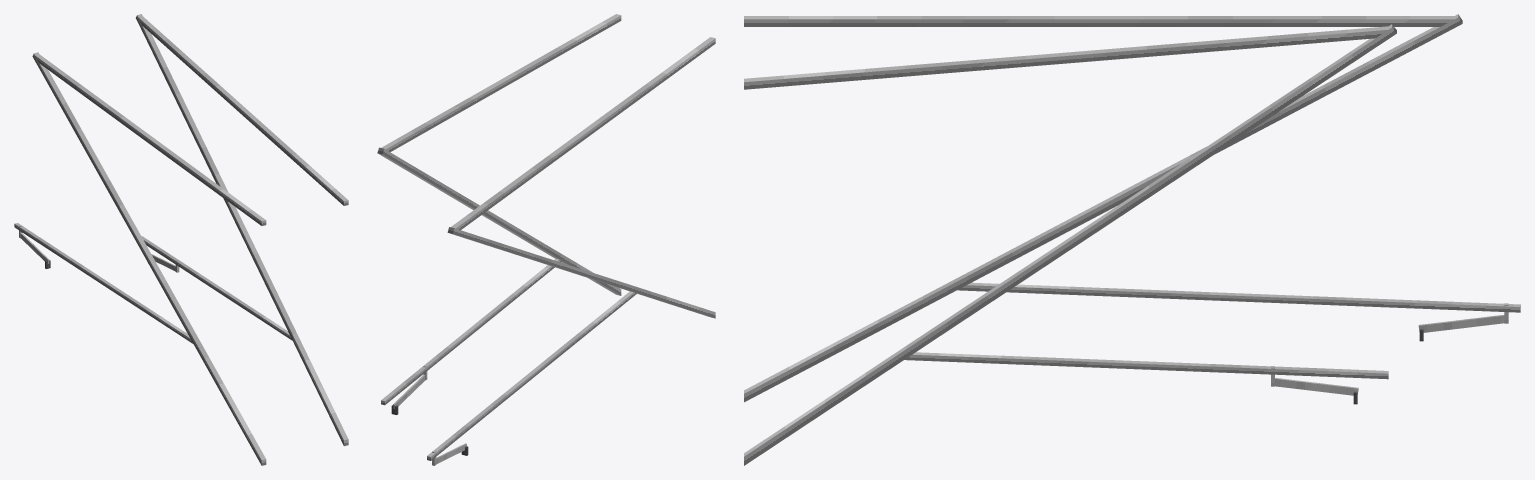
Rendered from cantilever_center_4px.obj.
3 renders of one model, left to right at view 1: azimuth 30°, elevation 25°; view 2: azimuth 150°, elevation 25°; view 3: azimuth 270°, elevation 25°, orthographic. The views are drawn at different scales.
Parts seen in each view (by area): view 1: 88733157-6fb4-43cc-a0bb-d16e70aaec55, 22754c70-5f22-4d24-8e22-9fc0e58b652f, accd16f6-9a28-4c76-8d62-dcadeb0995f5, ee530058-7f3a-47d5-8648-2a43c314c45a, 5ce1232e-4b6e-4e83-9a21-e54b31ceaab4, 6c59a15a-915d-4f14-bd44-0865bf2f925c; view 2: accd16f6-9a28-4c76-8d62-dcadeb0995f5, ee530058-7f3a-47d5-8648-2a43c314c45a, 88733157-6fb4-43cc-a0bb-d16e70aaec55, 22754c70-5f22-4d24-8e22-9fc0e58b652f, 5ce1232e-4b6e-4e83-9a21-e54b31ceaab4, 6c59a15a-915d-4f14-bd44-0865bf2f925c; view 3: 22754c70-5f22-4d24-8e22-9fc0e58b652f, 88733157-6fb4-43cc-a0bb-d16e70aaec55, accd16f6-9a28-4c76-8d62-dcadeb0995f5, ee530058-7f3a-47d5-8648-2a43c314c45a, 5ce1232e-4b6e-4e83-9a21-e54b31ceaab4, 6c59a15a-915d-4f14-bd44-0865bf2f925c, b52e2f65-6fe7-4bb8-ac5e-d31a0350541e.
Part boxes in pixels (bbox=[...]): 88733157-6fb4-43cc-a0bb-d16e70aaec55: bbox=[32, 52, 266, 465]; 22754c70-5f22-4d24-8e22-9fc0e58b652f: bbox=[136, 14, 348, 446]; accd16f6-9a28-4c76-8d62-dcadeb0995f5: bbox=[35, 54, 266, 225]; ee530058-7f3a-47d5-8648-2a43c314c45a: bbox=[138, 16, 348, 205]; 5ce1232e-4b6e-4e83-9a21-e54b31ceaab4: bbox=[14, 223, 193, 343]; 6c59a15a-915d-4f14-bd44-0865bf2f925c: bbox=[141, 236, 292, 340]; accd16f6-9a28-4c76-8d62-dcadeb0995f5: bbox=[451, 37, 715, 230]; ee530058-7f3a-47d5-8648-2a43c314c45a: bbox=[381, 14, 621, 152]; 88733157-6fb4-43cc-a0bb-d16e70aaec55: bbox=[447, 227, 715, 318]; 22754c70-5f22-4d24-8e22-9fc0e58b652f: bbox=[377, 147, 621, 295]; 5ce1232e-4b6e-4e83-9a21-e54b31ceaab4: bbox=[427, 291, 636, 460]; 6c59a15a-915d-4f14-bd44-0865bf2f925c: bbox=[381, 258, 561, 405]; 22754c70-5f22-4d24-8e22-9fc0e58b652f: bbox=[744, 24, 1396, 465]; 88733157-6fb4-43cc-a0bb-d16e70aaec55: bbox=[744, 14, 1462, 402]; accd16f6-9a28-4c76-8d62-dcadeb0995f5: bbox=[744, 16, 1454, 26]; ee530058-7f3a-47d5-8648-2a43c314c45a: bbox=[744, 26, 1388, 89]; 5ce1232e-4b6e-4e83-9a21-e54b31ceaab4: bbox=[957, 282, 1520, 312]; 6c59a15a-915d-4f14-bd44-0865bf2f925c: bbox=[904, 352, 1388, 379]; b52e2f65-6fe7-4bb8-ac5e-d31a0350541e: bbox=[1418, 315, 1504, 332].
Size of the model in its own units: 1.19 by 3.66 by 5.87.
